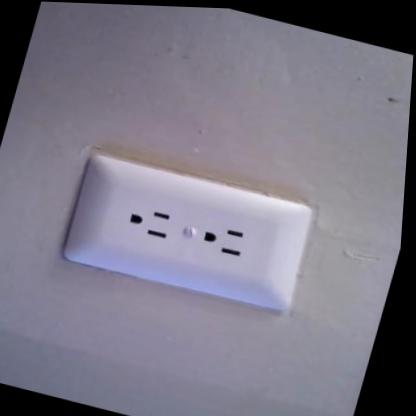OUTLET: (56, 149, 316, 315)
